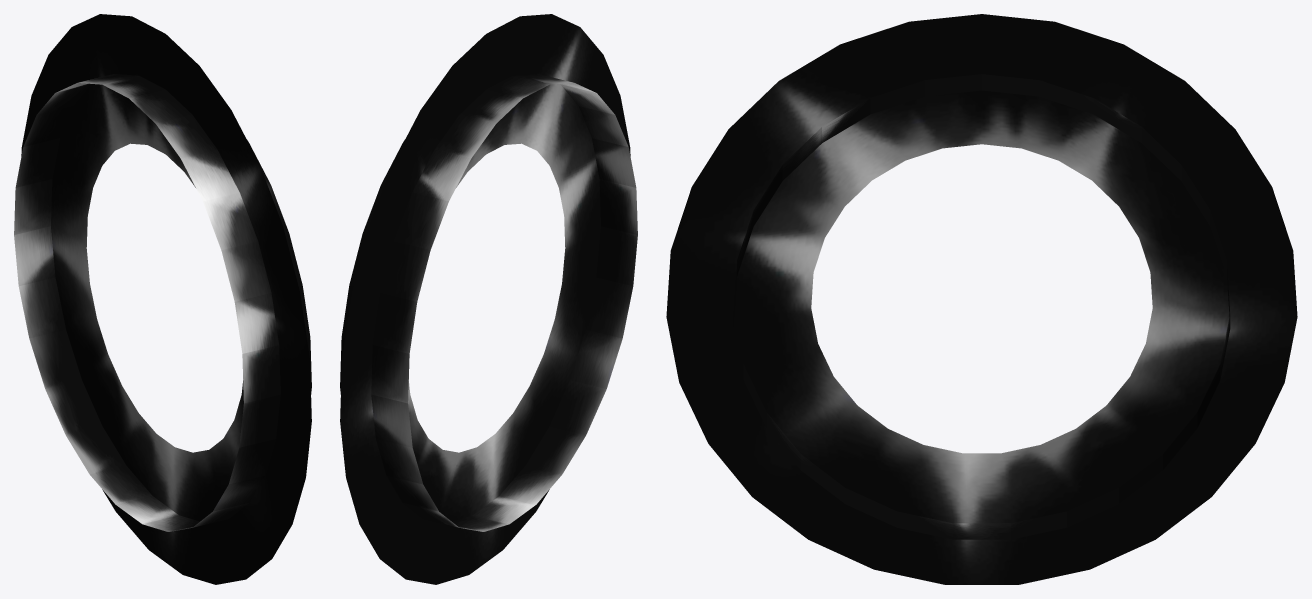
Rendered from 0135_S_FX_chongjibo_001.glb.
3 renders of one model, left to right at view 1: azimuth 30°, elevation 25°; view 2: azimuth 150°, elevation 25°; view 3: azimuth 270°, elevation 25°, orthographic. The views are drawn at different scales.
Size of the model in its own units: 0.2959 by 2.2 by 2.2.
1 material, 1 textured.
